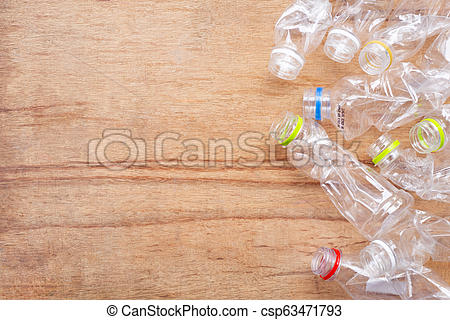plastic_bottle: (256, 103, 418, 249), (282, 85, 450, 171), (285, 233, 450, 305), (307, 1, 425, 93), (244, 1, 331, 118), (344, 201, 450, 293), (336, 3, 450, 83), (361, 123, 450, 214), (398, 93, 450, 166)
